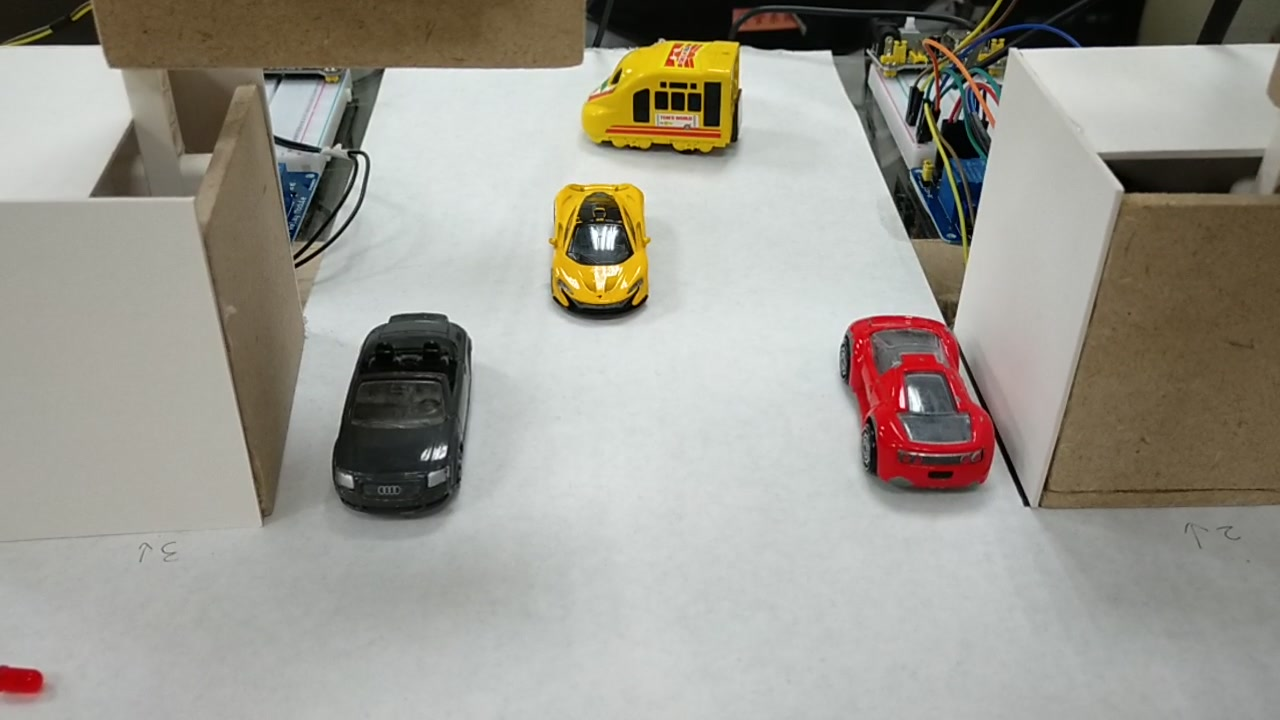car: (331, 309, 466, 511), (841, 310, 991, 486), (559, 175, 644, 314)
